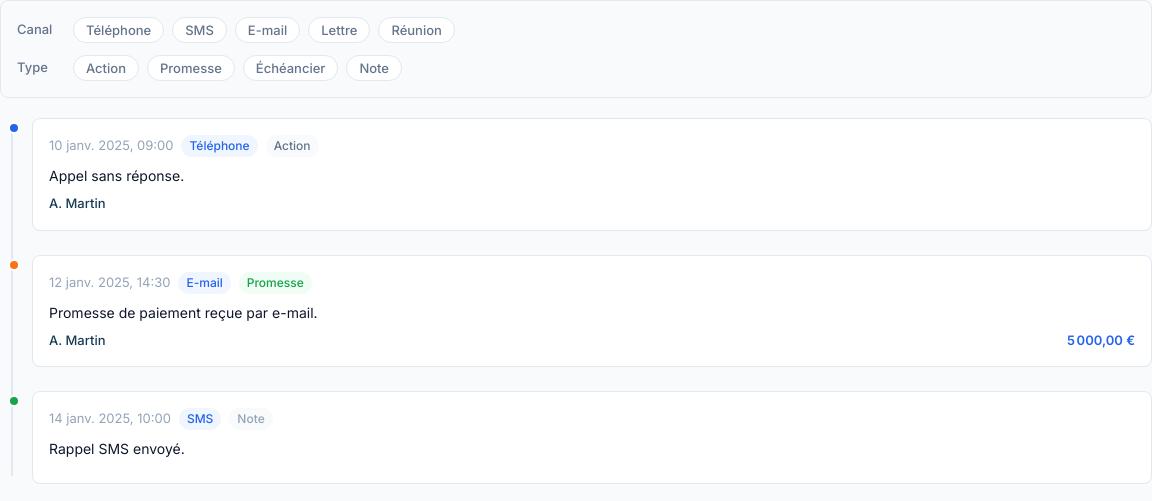
Test: TimelineComponent › should filter events by type
# Type buttons start at index 5 (after 5 channel buttons)
Click the button with class "timeline__filter-btn" showing "Promesse".
click(191, 68)  # box [147,55,235,81]
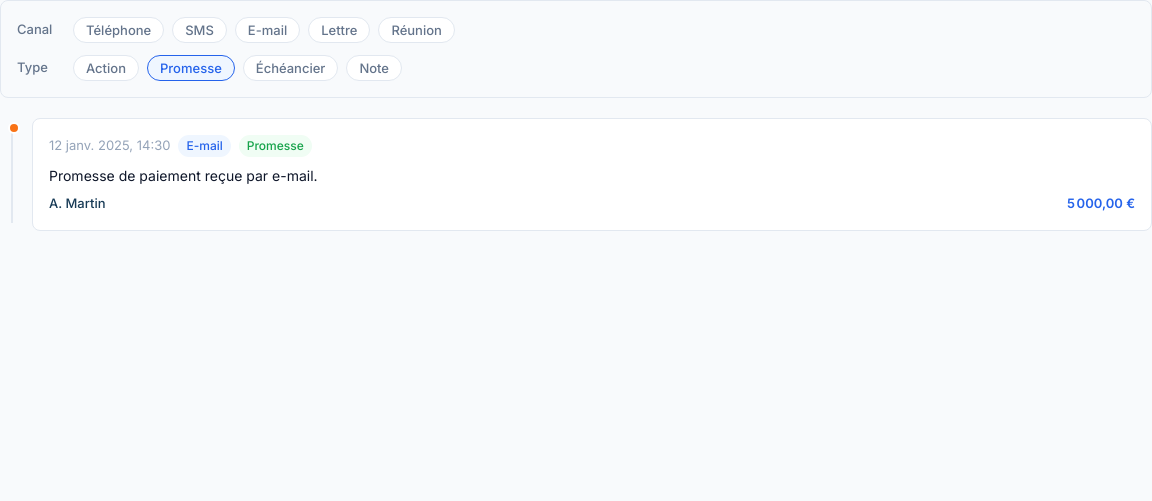
Expected: the number of list items with class "timeline__event" is 1, [32,118,1151,230]
